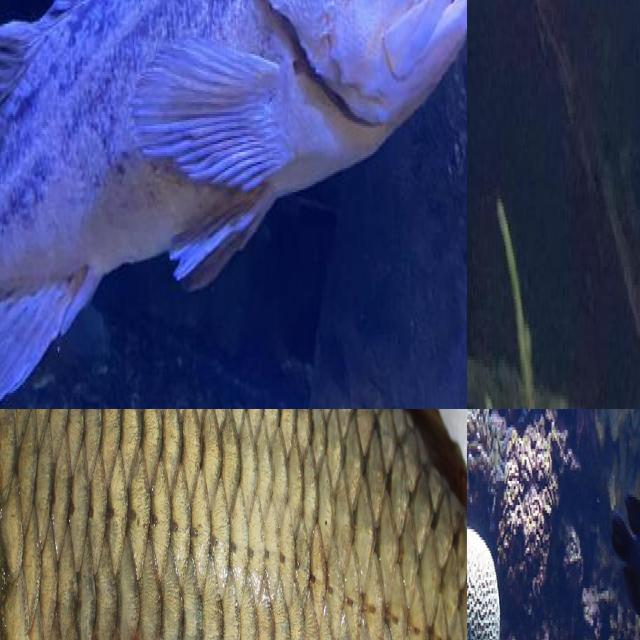fish: (0, 0, 467, 409), (0, 409, 467, 640)
